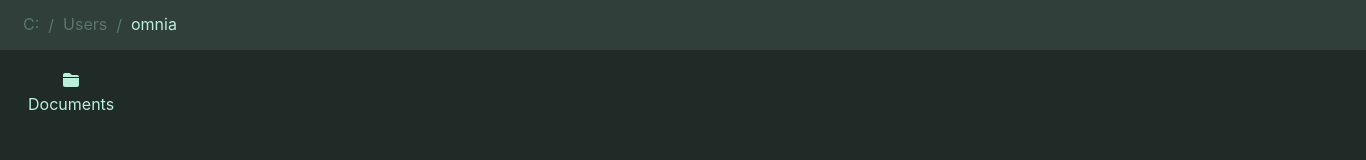
FileExplorer › Navigate into a folder on windows
Double-click the text "Documents" at (71, 104), box [28,94,114,114]
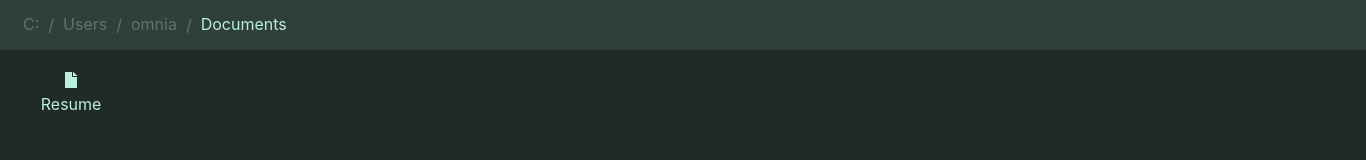
Result: the text "Resume" is shown at [41,94,101,114]
